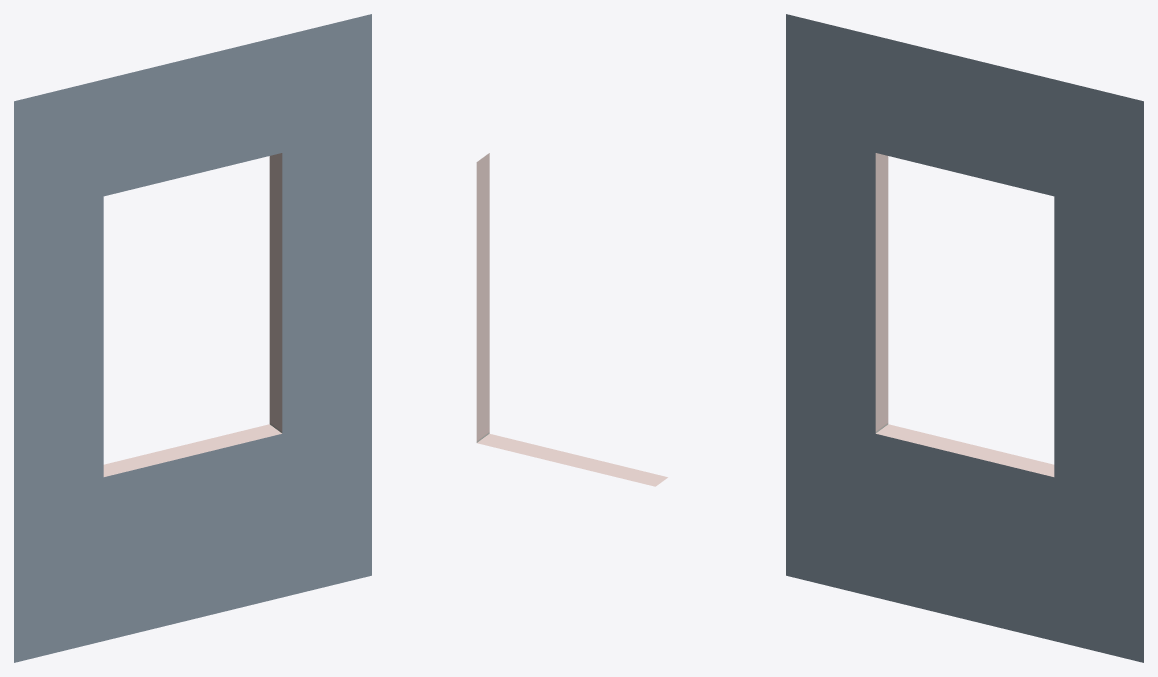
File: Wall2x3Win1x1_5Vert.gltf
3 renders of one model, left to right at view 1: azimuth 30°, elevation 25°; view 2: azimuth 150°, elevation 25°; view 3: azimuth 330°, elevation 25°, orthographic.
Parts seen in each view (by area): view 1: Wall2x3Win1x1_5VertShape; view 2: Wall2x3Win1x1_5VertShape; view 3: Wall2x3Win1x1_5VertShape.
Boxes of the visible parts, left/top/right/bottom form: Wall2x3Win1x1_5VertShape: left=14, top=14, right=371, bottom=662; Wall2x3Win1x1_5VertShape: left=476, top=153, right=667, bottom=486; Wall2x3Win1x1_5VertShape: left=786, top=14, right=1143, bottom=662.
Bounding box in the file's own units: 200 × 300 × 12.5.
1 material, 1 textured.
